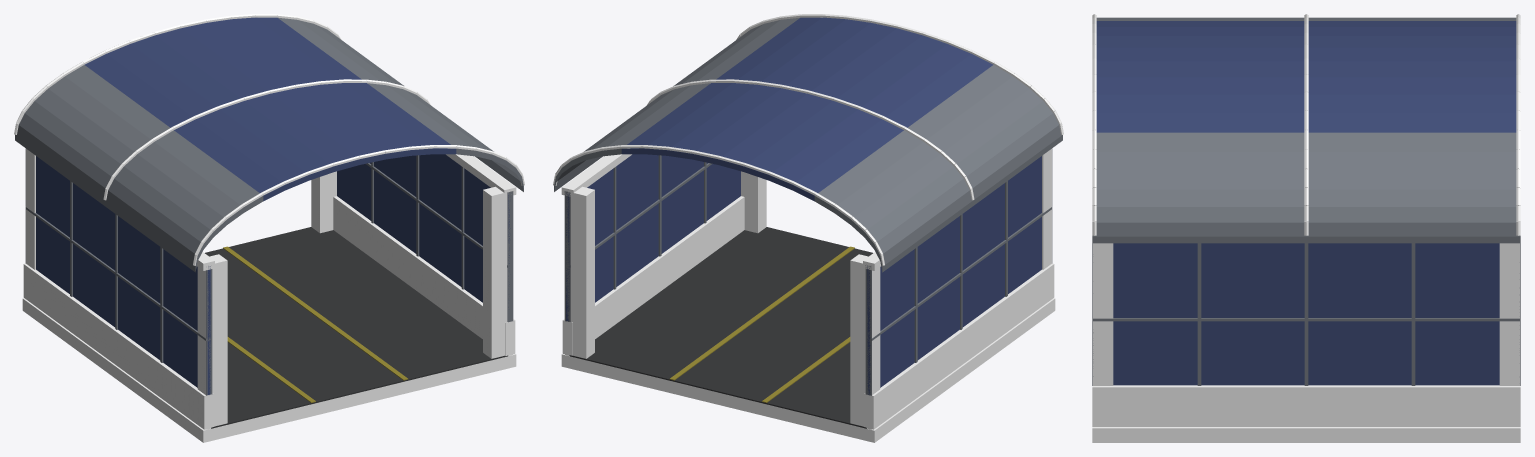
File: station_shell.fbx
3 renders of one model, left to right at view 1: azimuth 30°, elevation 25°; view 2: azimuth 150°, elevation 25°; view 3: azimuth 270°, elevation 25°, orthographic. The views are drawn at different scales.
Visible parts, largest first — view 1: p602/station_shell; view 2: p602/station_shell; view 3: p602/station_shell.
Boxes of the visible parts, left/top/right/bottom form: p602/station_shell: left=14, top=14, right=524, bottom=442; p602/station_shell: left=553, top=14, right=1063, bottom=442; p602/station_shell: left=1092, top=14, right=1520, bottom=442.
Size of the model in its own units: 8.49 by 6.07 by 8.
